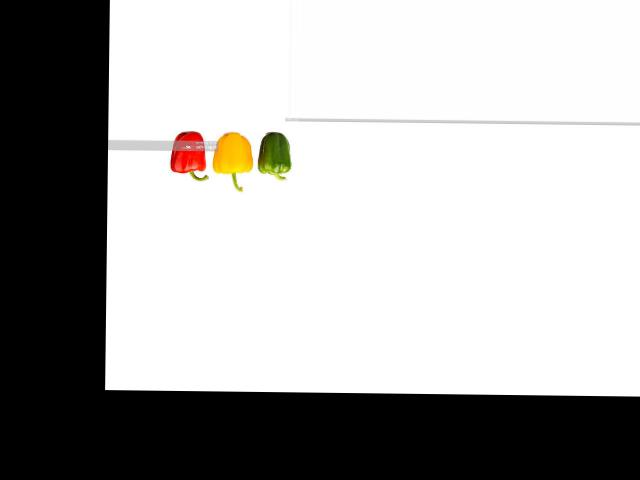bell_pepper: (258, 128, 295, 187)
